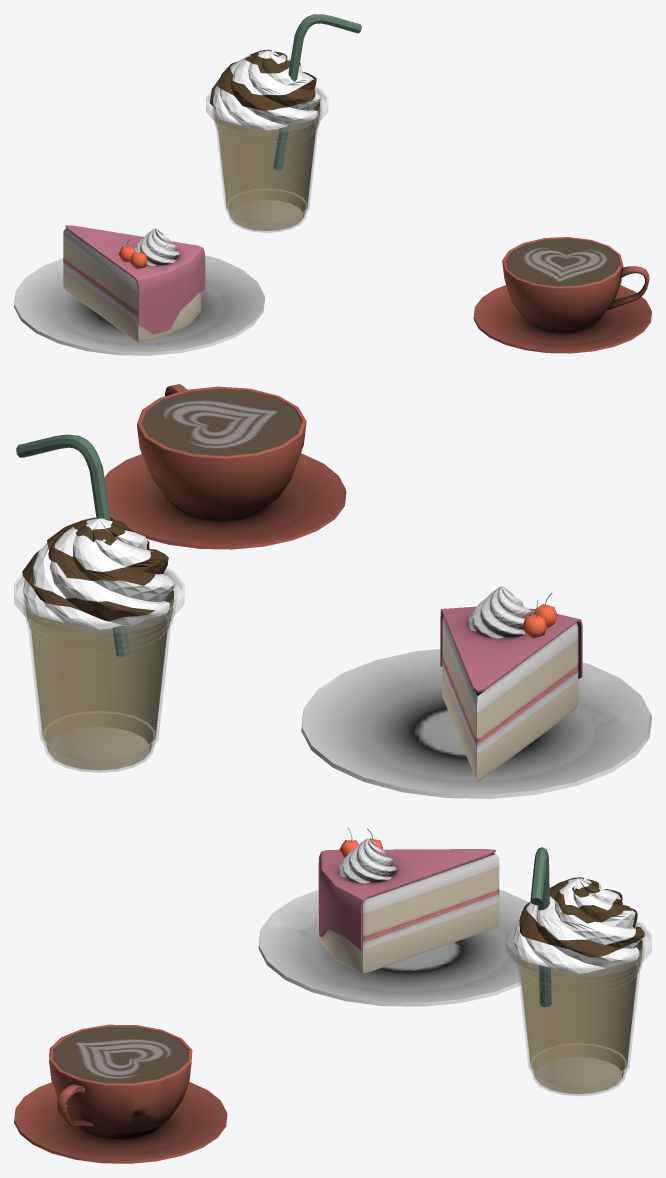
Rendered from cakes.glb.
3 renders of one model, top to bottom at view 1: azimuth 30°, elevation 25°; view 2: azimuth 150°, elevation 25°; view 3: azimuth 270°, elevation 25°, orthographic. The views are drawn at different scales.
Visible parts, largest first — view 1: cup_so_low012, Cylinder072, cup_low, Cylinder073, cup_so_low, cake_choco_low, cake_base_low, Gengon001, Gengon003, Line045, cake_cream_low; view 2: cup_so_low012, Cylinder072, cup_low, Cylinder073, cake_base_low, cup_so_low, Gengon001, cake_choco_low, Gengon003, Line045, cake_cream_low; view 3: cup_so_low012, Cylinder072, cup_low, Cylinder073, cake_base_low, cup_so_low, Gengon001, cake_choco_low, Gengon003, cake_cream_low, Line045.
Part boxes in pixels (box(x1,y1,x2,y2)): cup_so_low012: box(14, 255, 264, 355); Cylinder072: box(206, 86, 327, 232); cup_low: box(502, 237, 649, 332); Cylinder073: box(213, 102, 320, 230); cup_so_low: box(473, 285, 651, 353); cake_choco_low: box(65, 225, 205, 333); cake_base_low: box(63, 228, 201, 342); Gengon001: box(213, 50, 321, 130); Gengon003: box(209, 49, 316, 110); Line045: box(273, 14, 361, 170); cake_cream_low: box(134, 228, 179, 265); cup_so_low012: box(301, 649, 651, 798); Cylinder072: box(14, 568, 184, 772); cup_low: box(137, 384, 306, 520); Cylinder073: box(24, 590, 173, 770); cake_base_low: box(442, 616, 578, 781); cup_so_low: box(104, 453, 346, 549); Gengon001: box(23, 518, 175, 629); cake_choco_low: box(440, 606, 582, 692); Gengon003: box(22, 517, 168, 621); Line045: box(16, 434, 129, 656); cake_cream_low: box(468, 586, 531, 638); cup_so_low012: box(258, 889, 528, 1006); Cylinder072: box(506, 921, 651, 1095); cup_low: box(49, 1024, 192, 1139); Cylinder073: box(515, 939, 642, 1093); cake_base_low: box(321, 853, 499, 973); cup_so_low: box(14, 1082, 227, 1163); Gengon001: box(513, 878, 643, 973); cake_choco_low: box(318, 849, 495, 950); Gengon003: box(519, 877, 644, 957); cake_cream_low: box(338, 838, 396, 883); Line045: box(530, 847, 551, 1007).
Size of the model in its own units: 0.3609 by 0.1453 by 0.3411.
16 materials, 10 textured.
